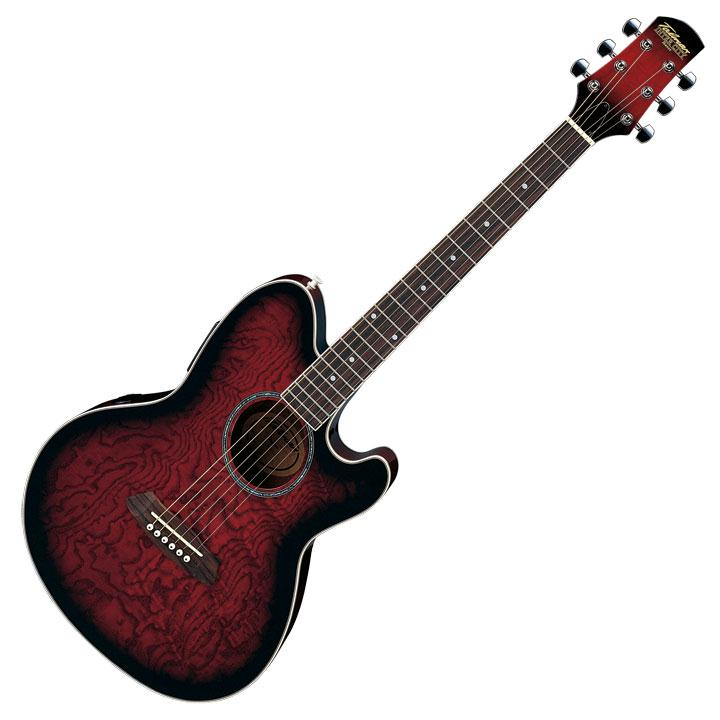guitar: (23, 11, 705, 704)
